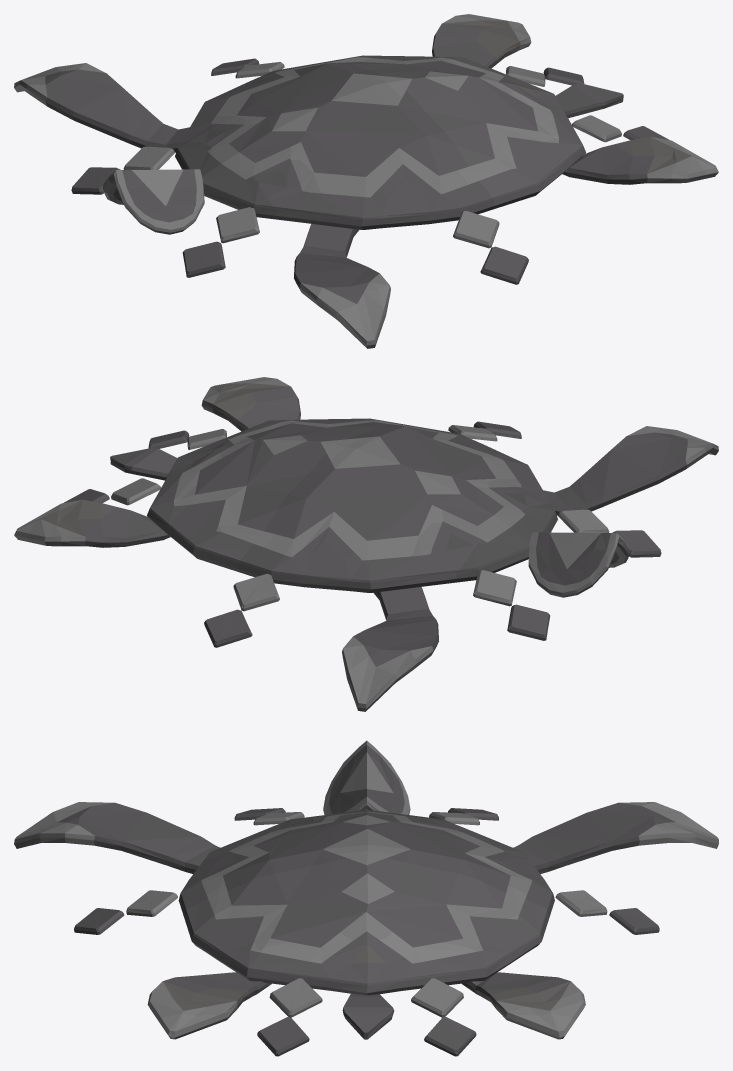
The model's file is CharSkyKid_Prop_ColorKiteTurtle.glb.
3 views of the same model, one above another, from view 1: azimuth 30°, elevation 25°; view 2: azimuth 150°, elevation 25°; view 3: azimuth 270°, elevation 25° (orthographic).
Parts seen in each view (by area): view 1: CharSkyKid_Prop_ColorKiteTurtle; view 2: CharSkyKid_Prop_ColorKiteTurtle; view 3: CharSkyKid_Prop_ColorKiteTurtle.
Part boxes in pixels (x1=…): CharSkyKid_Prop_ColorKiteTurtle: x1=14, y1=14, x2=718, y2=348; CharSkyKid_Prop_ColorKiteTurtle: x1=14, y1=377, x2=718, y2=711; CharSkyKid_Prop_ColorKiteTurtle: x1=14, y1=740, x2=718, y2=1056.
Size of the model in its own units: 17.34 by 2.91 by 20.68.
Materials: 1 (1 with a texture image).
